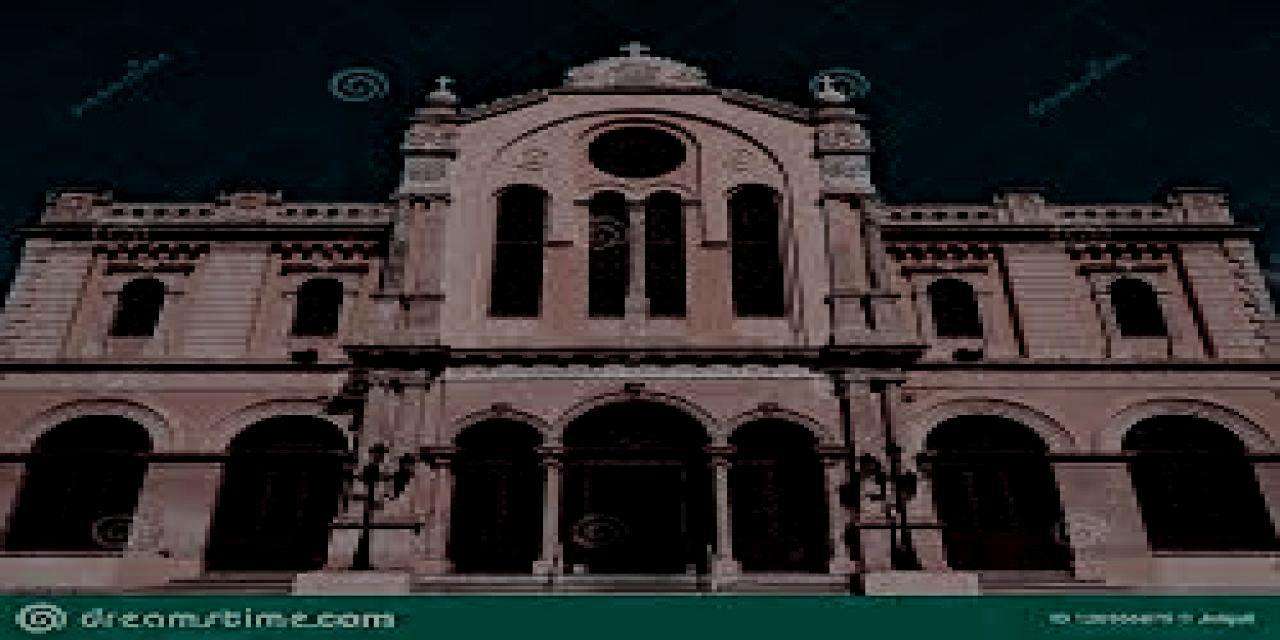Agios Minas: (2, 38, 1280, 598)
